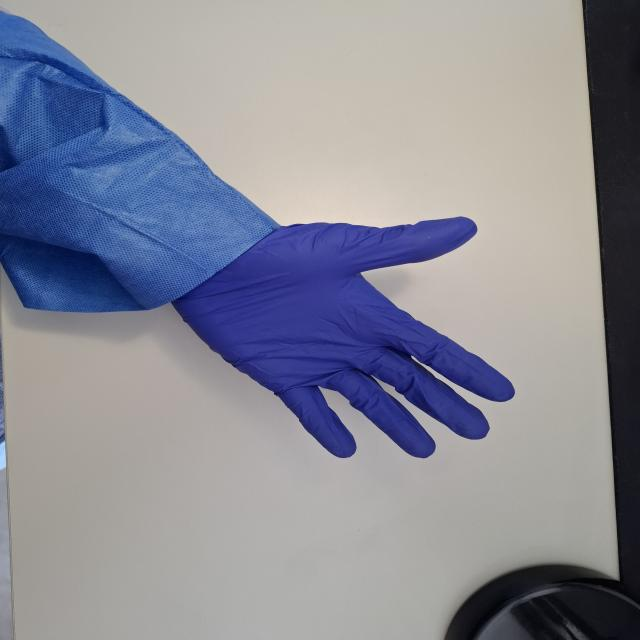glove_on: (165, 212, 521, 461)
